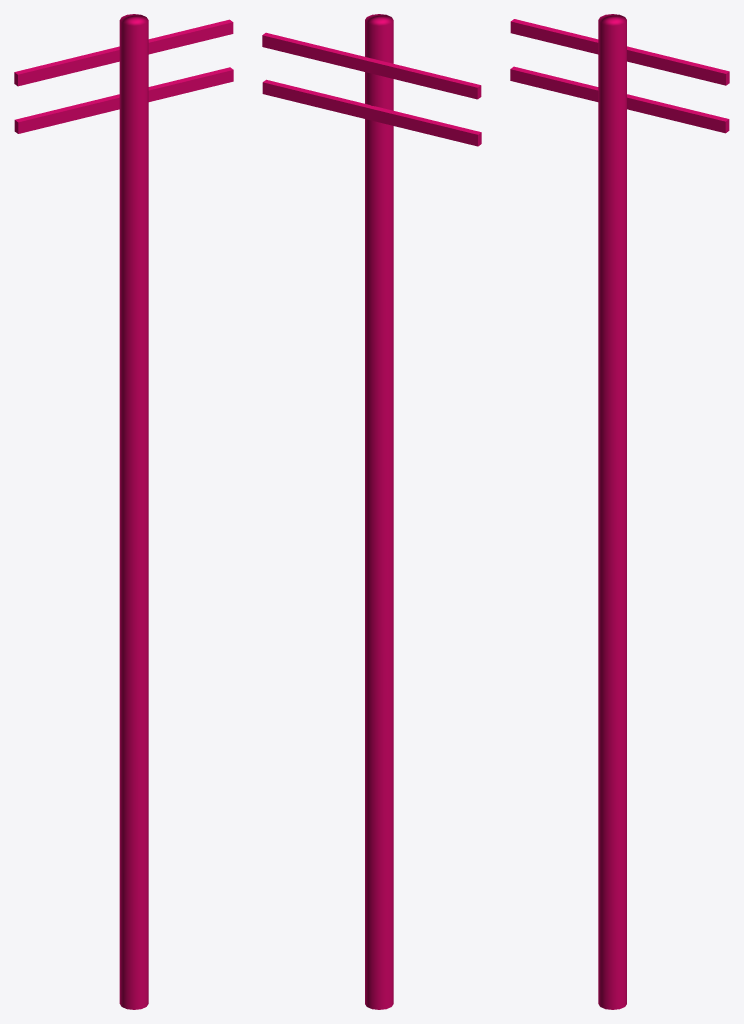
The model's file is Utility_Pole_01_Lod1.fbx.
The picture shows the model from 3 angles, left to right: view 1: azimuth 30°, elevation 25°; view 2: azimuth 150°, elevation 25°; view 3: azimuth 330°, elevation 25°; orthographic projection.
Parts seen in each view (by area): view 1: Utility_Pole_01_Lod1; view 2: Utility_Pole_01_Lod1; view 3: Utility_Pole_01_Lod1.
Part boxes in pixels (<box>): Utility_Pole_01_Lod1: <box>14,14,233,1009</box>; Utility_Pole_01_Lod1: <box>262,14,481,1009</box>; Utility_Pole_01_Lod1: <box>510,14,729,1009</box>.
Size of the model in its own units: 173 by 756 by 24.92.
